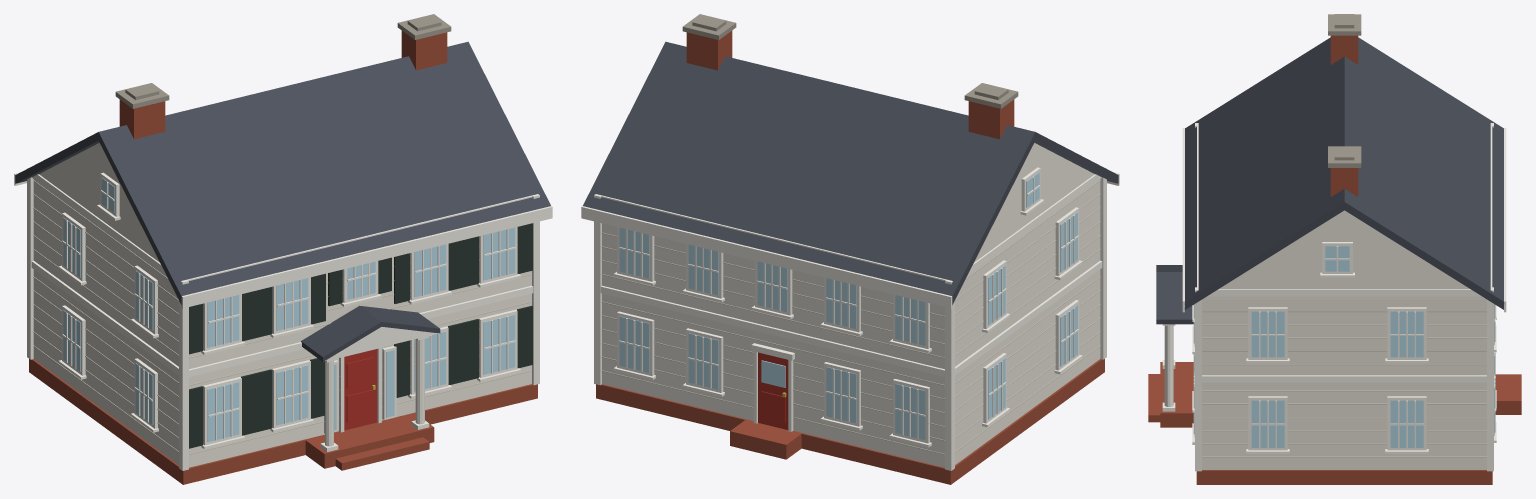
File: house_colonial.glb
The picture shows the model from 3 angles, left to right: view 1: azimuth 30°, elevation 25°; view 2: azimuth 150°, elevation 25°; view 3: azimuth 270°, elevation 25°; orthographic projection. The views are drawn at different scales.
Parts seen in each view (by area): view 1: house_colonial; view 2: house_colonial; view 3: house_colonial.
Part boxes in pixels (left/top/right/bottom): house_colonial: left=14, top=14, right=552, bottom=484; house_colonial: left=581, top=14, right=1119, bottom=484; house_colonial: left=1148, top=14, right=1521, bottom=484.
Bounding box in the file's own units: 11.8 × 10.04 × 10.75.
